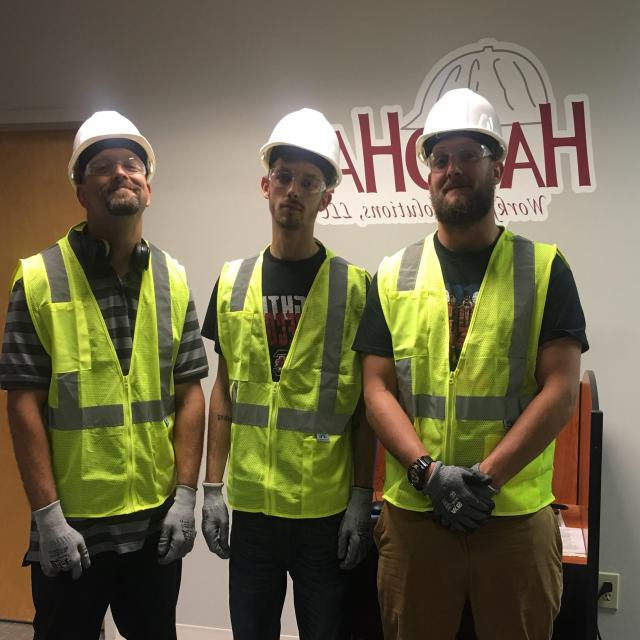Reflective-Jacket: (375, 233, 574, 520), (6, 238, 195, 526), (212, 244, 371, 527)
Safety-Helmet: (413, 83, 510, 159), (256, 102, 350, 178), (63, 104, 159, 170)
